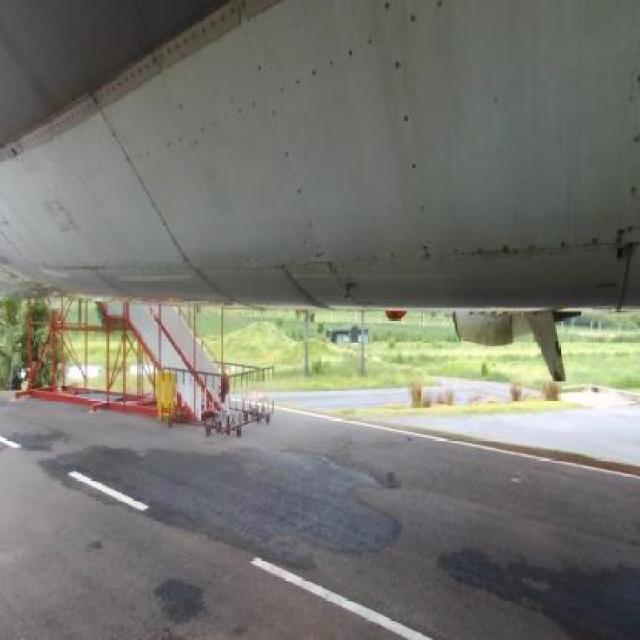Missing-Rivet: (380, 19, 443, 262), (255, 68, 327, 257), (459, 227, 623, 281), (270, 50, 393, 98), (208, 99, 286, 133), (138, 134, 214, 161)
